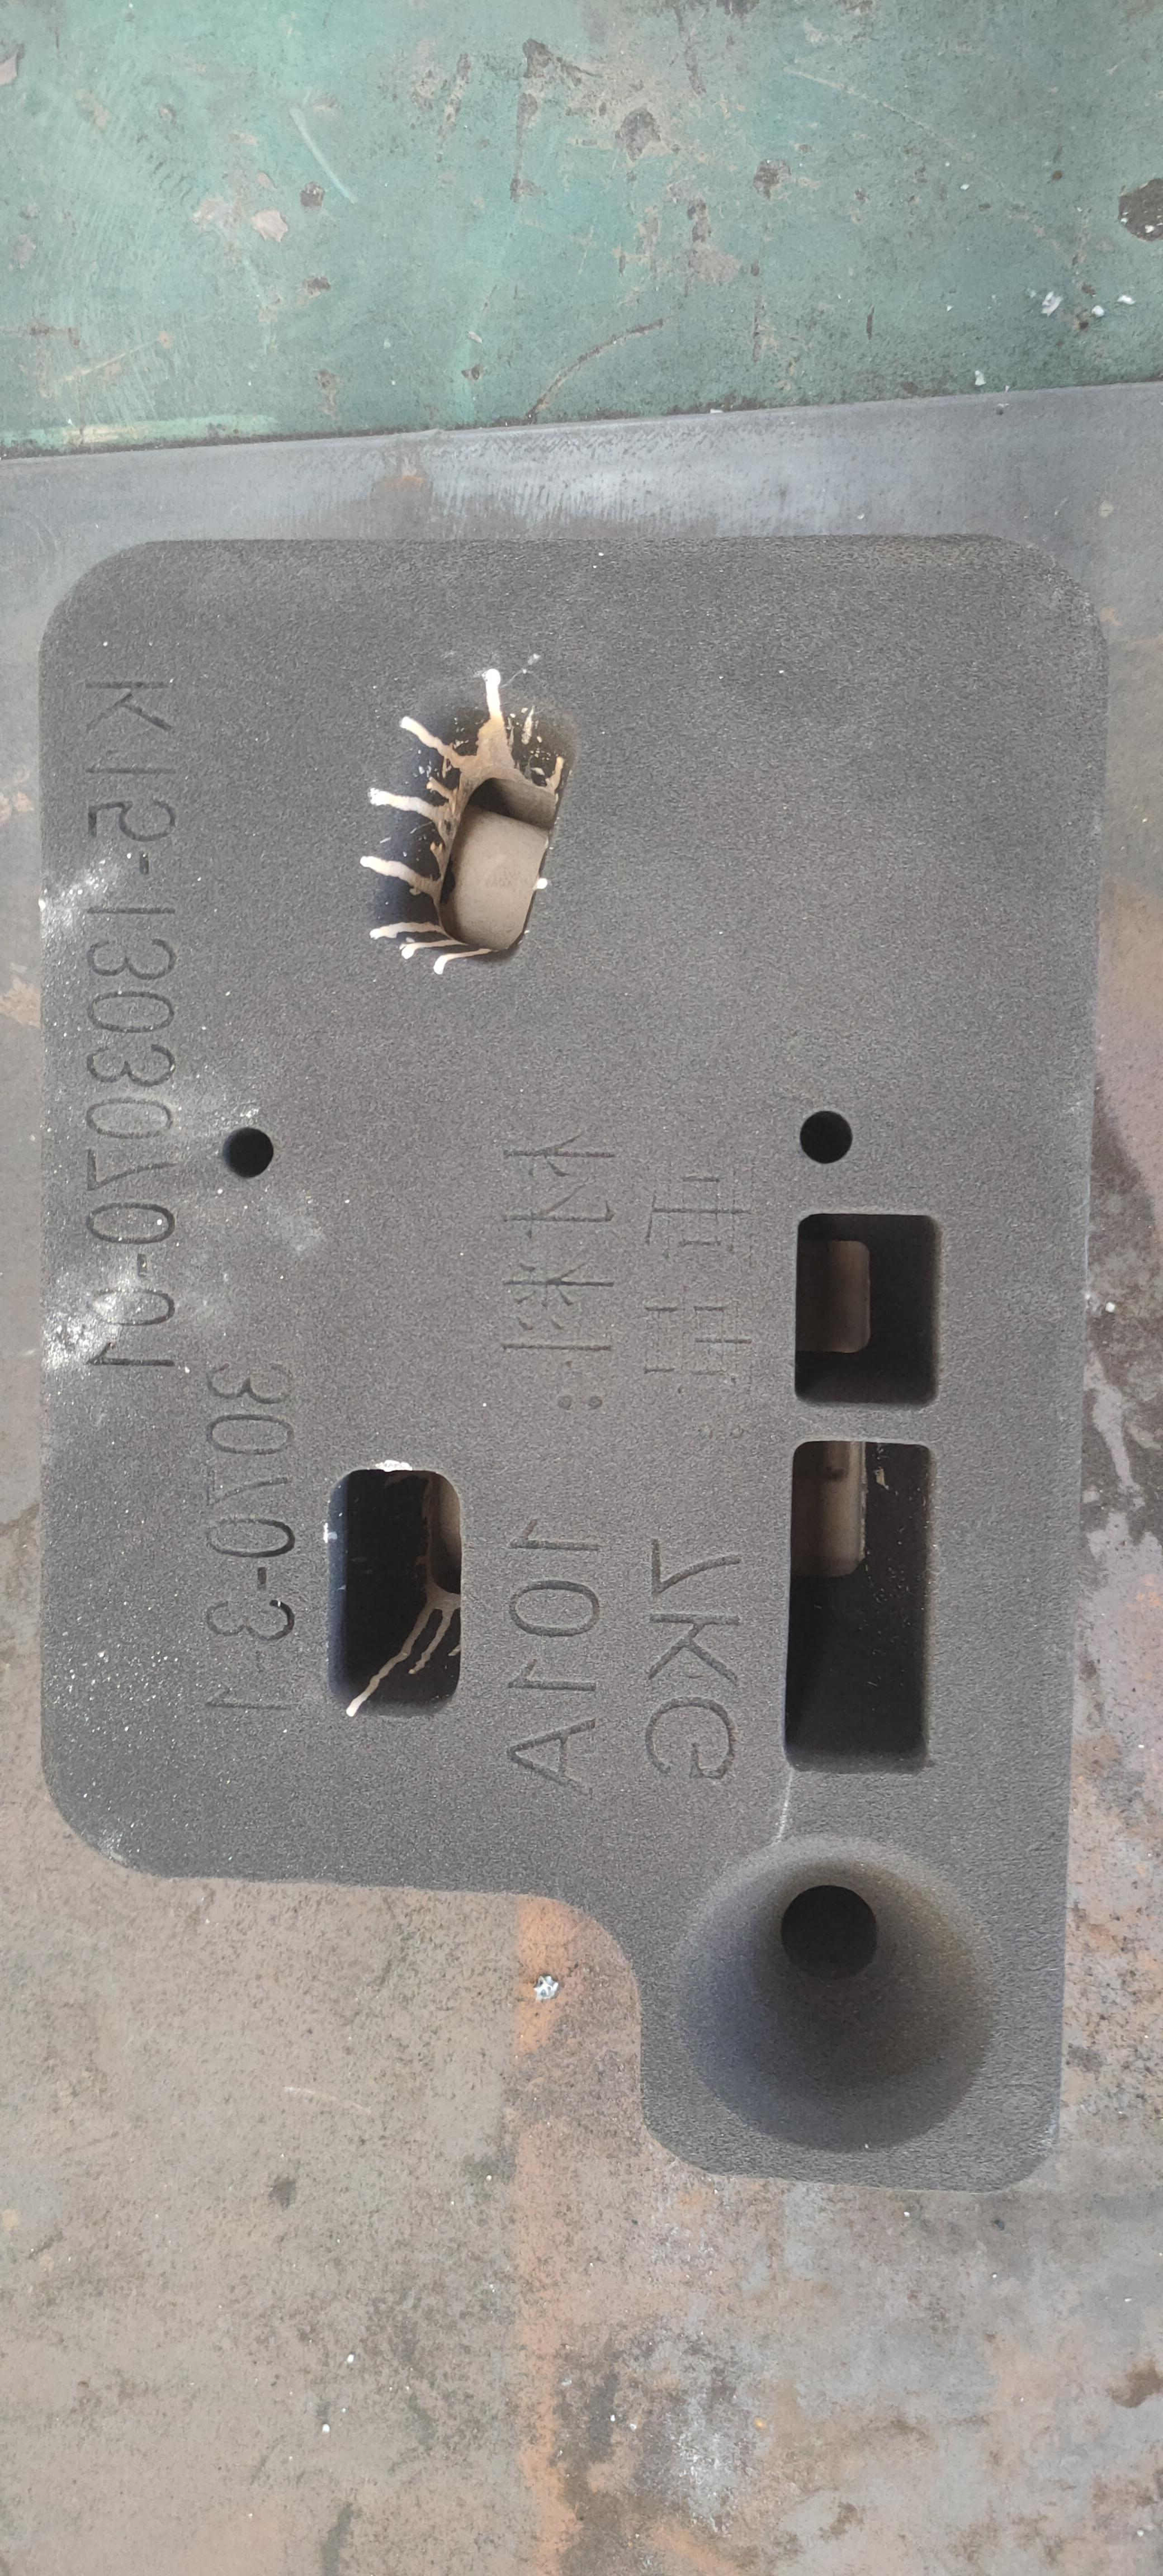pouring hole: (665, 1838, 997, 2154)
